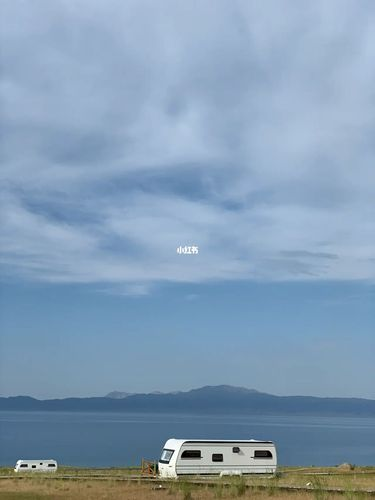mountain: (17, 381, 368, 432)
sea_river: (14, 384, 374, 455)
sky_cloud: (31, 73, 342, 279), (5, 269, 374, 375)
